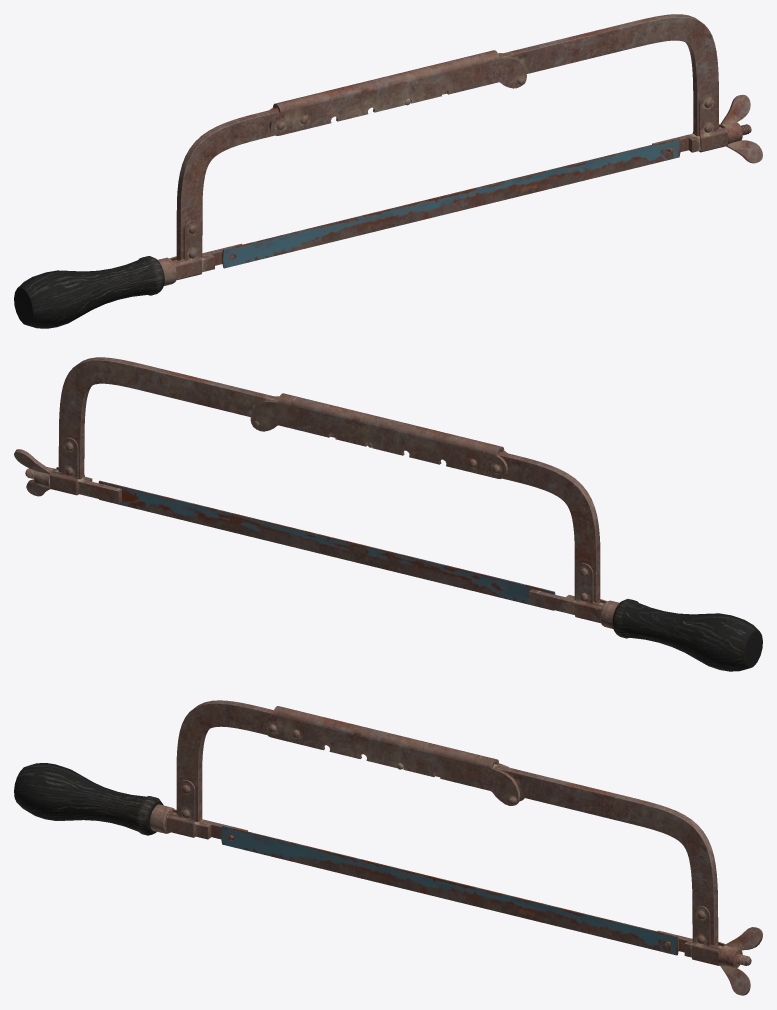
Rendered from rusted_hacksaw.glb.
3 renders of one model, top to bottom at view 1: azimuth 30°, elevation 25°; view 2: azimuth 150°, elevation 25°; view 3: azimuth 330°, elevation 25°, orthographic.
Visible parts, largest first — view 1: rusted_hacksaw; view 2: rusted_hacksaw; view 3: rusted_hacksaw.
Part boxes in pixels (x1=…): rusted_hacksaw: x1=14, y1=14, x2=762, y2=328; rusted_hacksaw: x1=14, y1=357, x2=762, y2=671; rusted_hacksaw: x1=14, y1=700, x2=762, y2=995.
Bounding box in the file's own units: 0.4964 × 0.1094 × 0.0328.
1 material, 1 textured.
